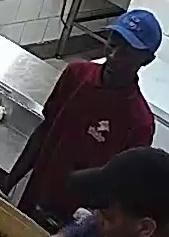no_apron: (37, 63, 154, 169)
